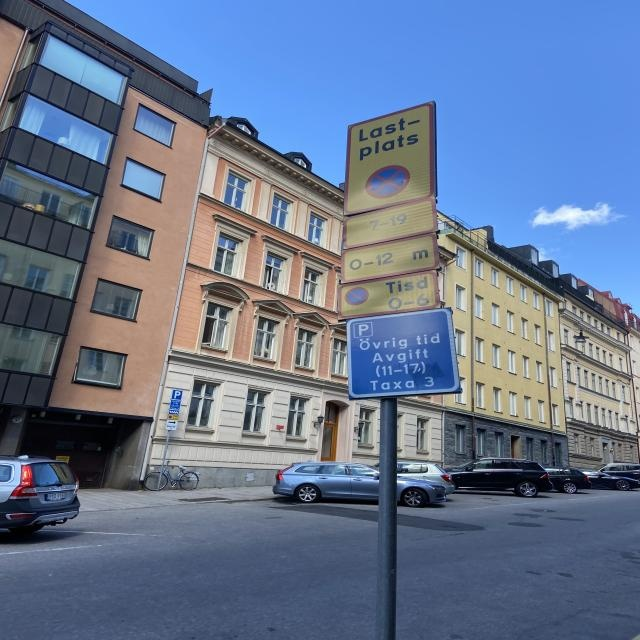lastplats: (344, 101, 436, 218)
